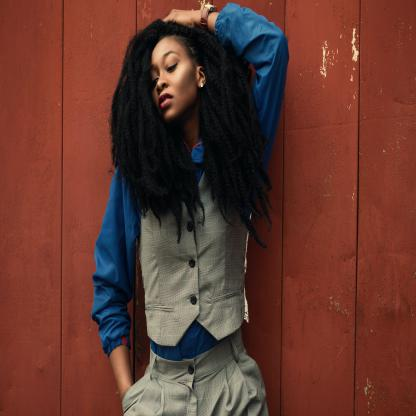Eye: (166, 61, 178, 73), (151, 73, 159, 88)
Mouth: (158, 92, 174, 108)
Nose: (156, 71, 169, 94)
